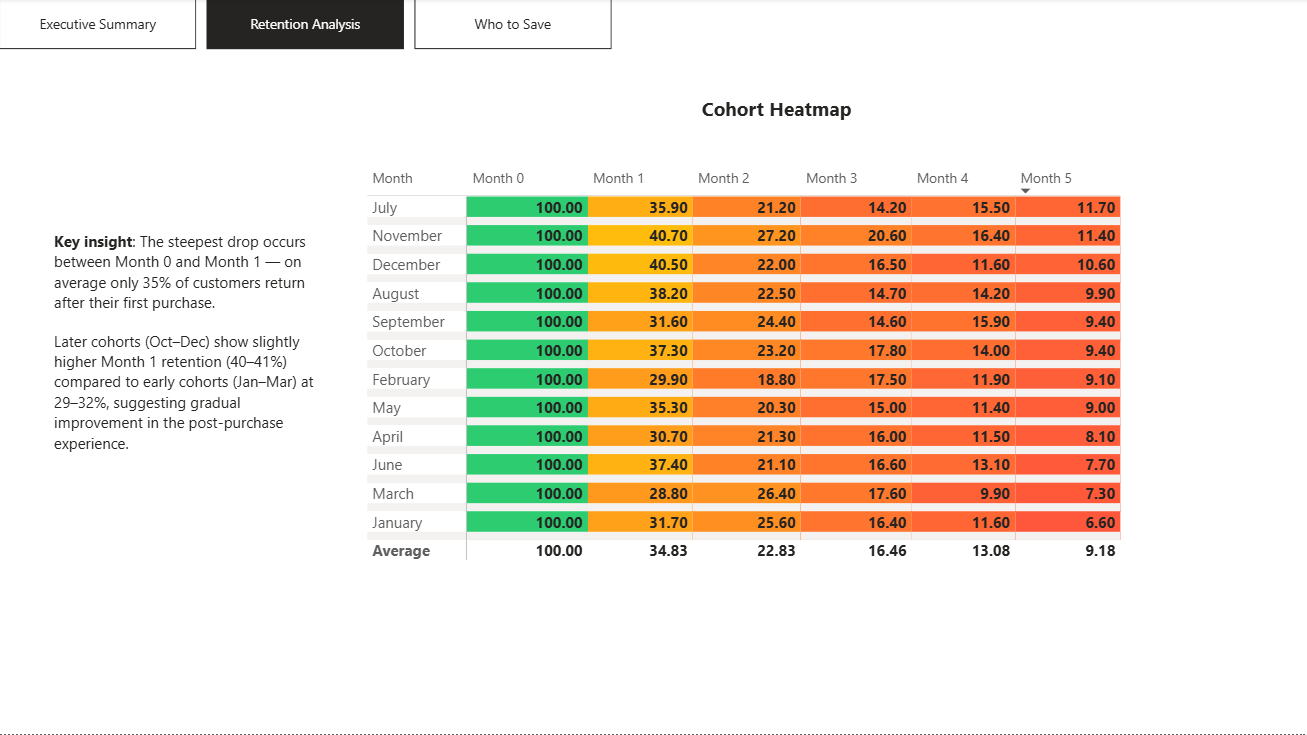

Layout of this report page (visuals, bound fields, positions):
{"tool":"powerbi","page":{"name":"Retention Analysis","canvas":[1280,720],"ordinal":1},"visuals":[{"type":"pivotTable","fields":{"Rows":["Cohort.cohort_month.Variation.Date Hierarchy.Month"],"Values":["Avg(Cohort.0)","Avg(Cohort.1)","Avg(Cohort.2)","Avg(Cohort.3)","Avg(Cohort.4)","Avg(Cohort.5)"]},"box":[352.7,159.2,778,456.9],"z":0},{"type":"textbox","box":[664.2,90.6,193.5,50.8],"z":1},{"type":"textbox","box":[49.4,222.3,274.4,240.1],"z":3},{"type":"pageNavigator","box":[0,0,600,50],"z":4}]}

Visuals, with their boxes in screenshot pixels (x1, y1, x2, y2), scaled from the page's 1280x720 canvas onto the 1307x735 screenshot:
pivotTable - Cohort.cohort_month.Variation.Date Hierarchy.Month x Avg(Cohort.0): bbox=(360, 163, 1155, 629)
textbox: bbox=(678, 92, 876, 144)
textbox: bbox=(50, 227, 331, 472)
pageNavigator: bbox=(0, 0, 613, 51)
